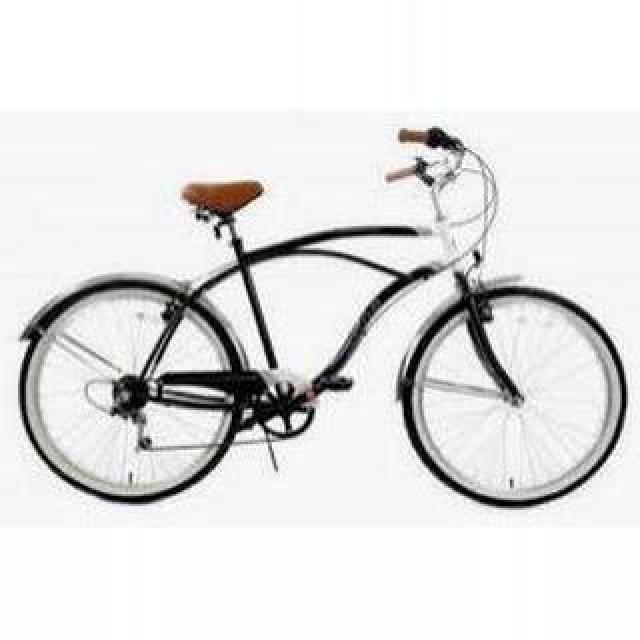Person: (16, 125, 630, 509)
